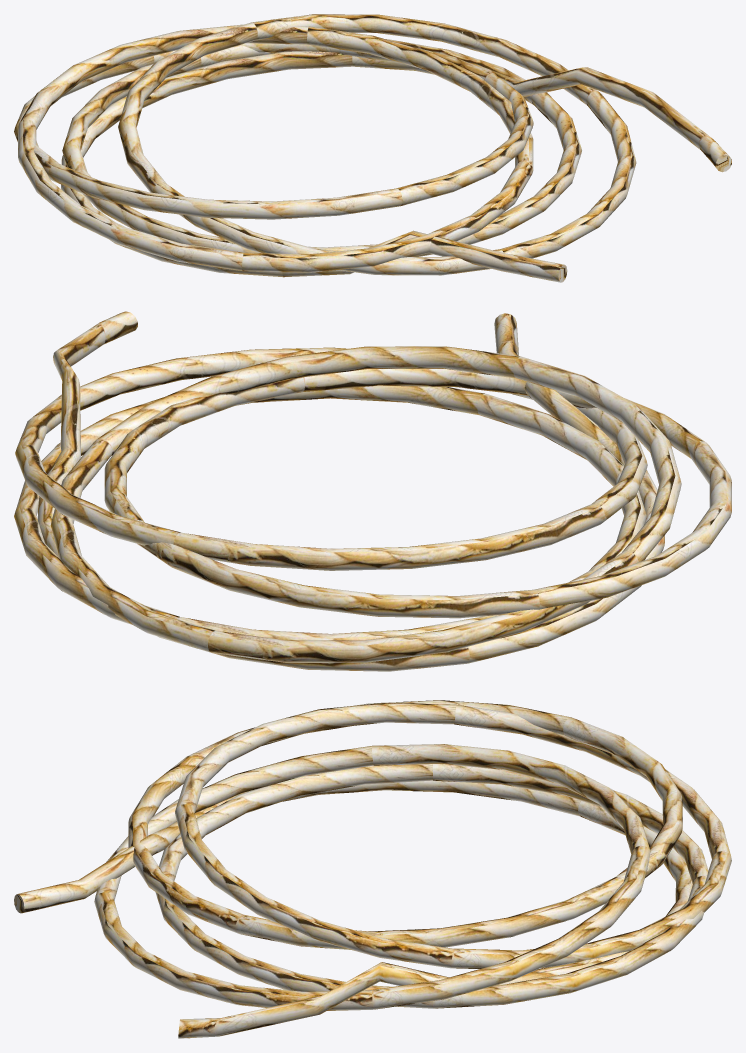
Rendered from Cuerda.FBX.
3 views of the same model, one above another, from view 1: azimuth 30°, elevation 25°; view 2: azimuth 150°, elevation 25°; view 3: azimuth 270°, elevation 25° (orthographic). The views are drawn at different scales.
Parts seen in each view (by area): view 1: Cuerda; view 2: Cuerda; view 3: Cuerda.
Part boxes in pixels (left/top/right/bottom): Cuerda: left=14, top=14, right=731, bottom=282; Cuerda: left=14, top=311, right=731, bottom=671; Cuerda: left=14, top=700, right=731, bottom=1038.
Bounding box in the file's own units: 47.43 × 6.44 × 47.58.
